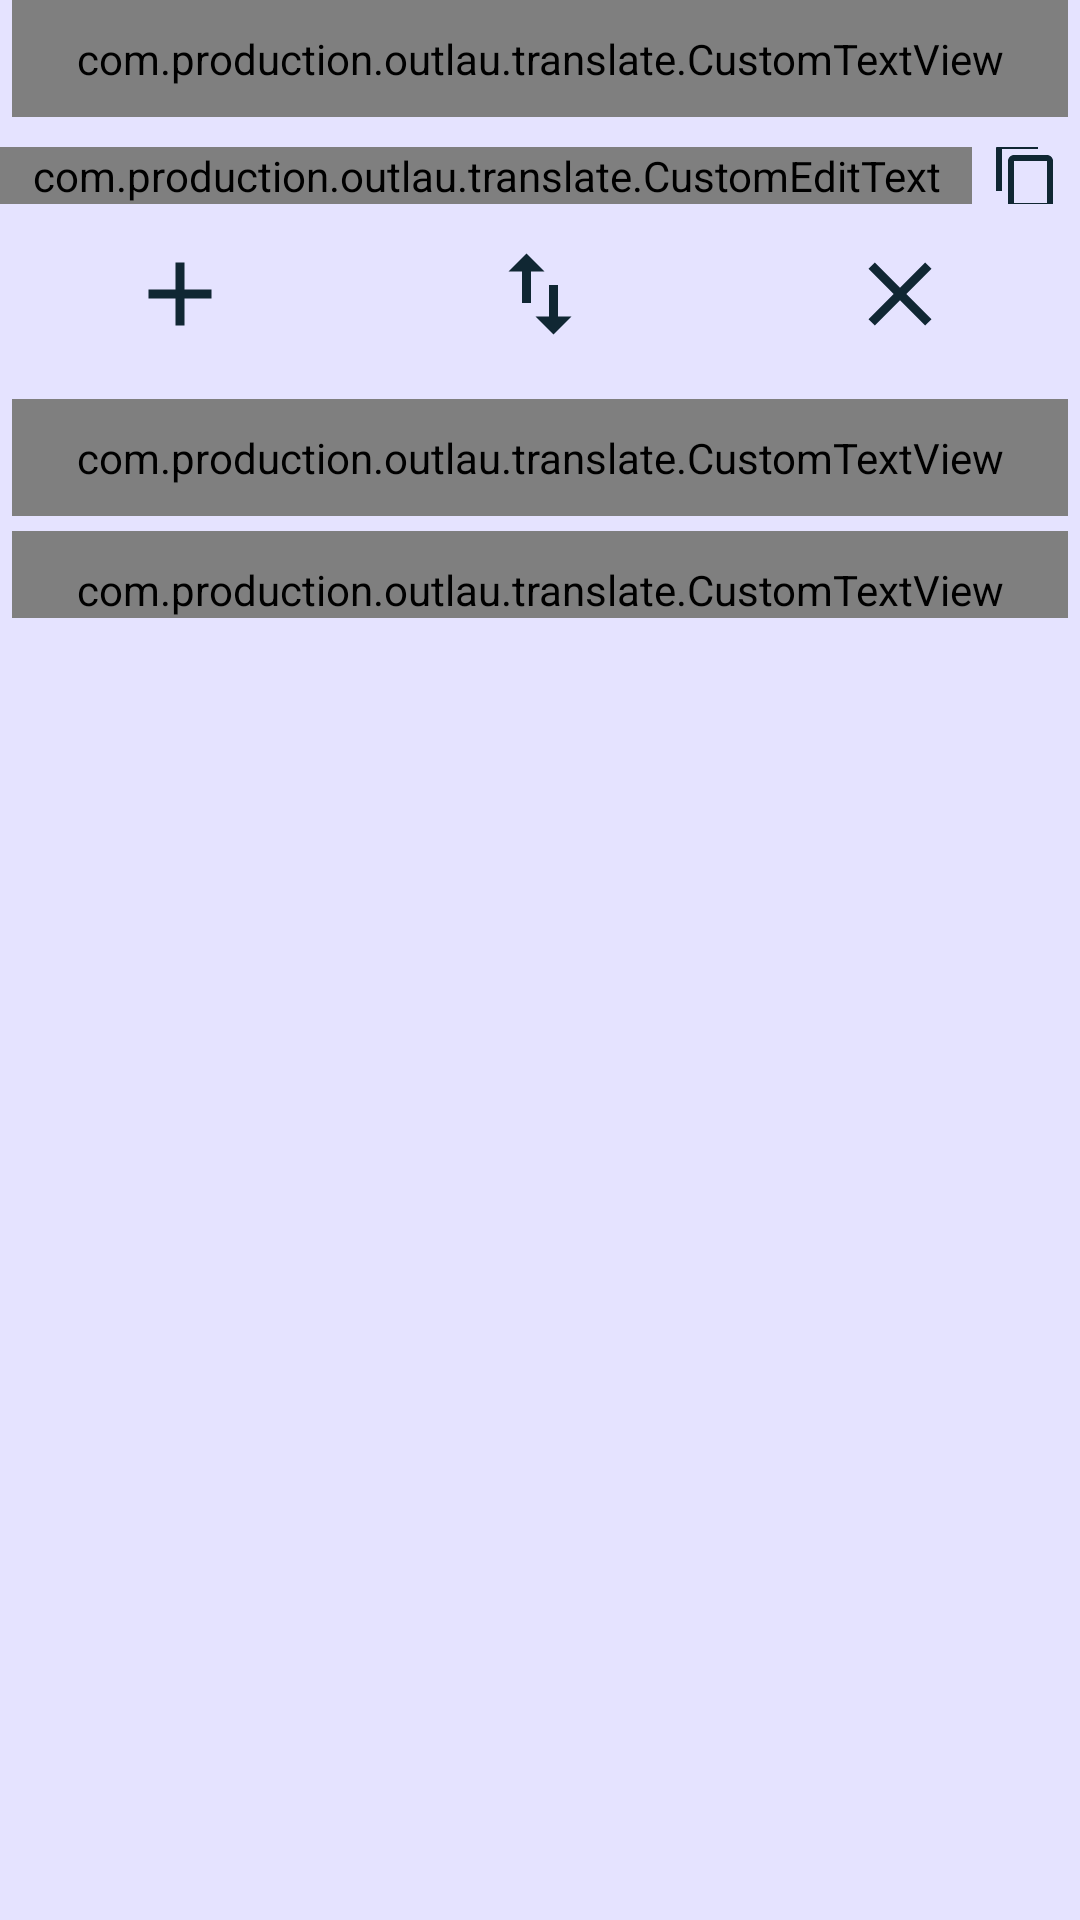

Icon click points for this 1080 × 1920 phone screenshot, format point (x, y):
add: point (180, 294)
clear: point (900, 294)
swap: point (540, 294)
